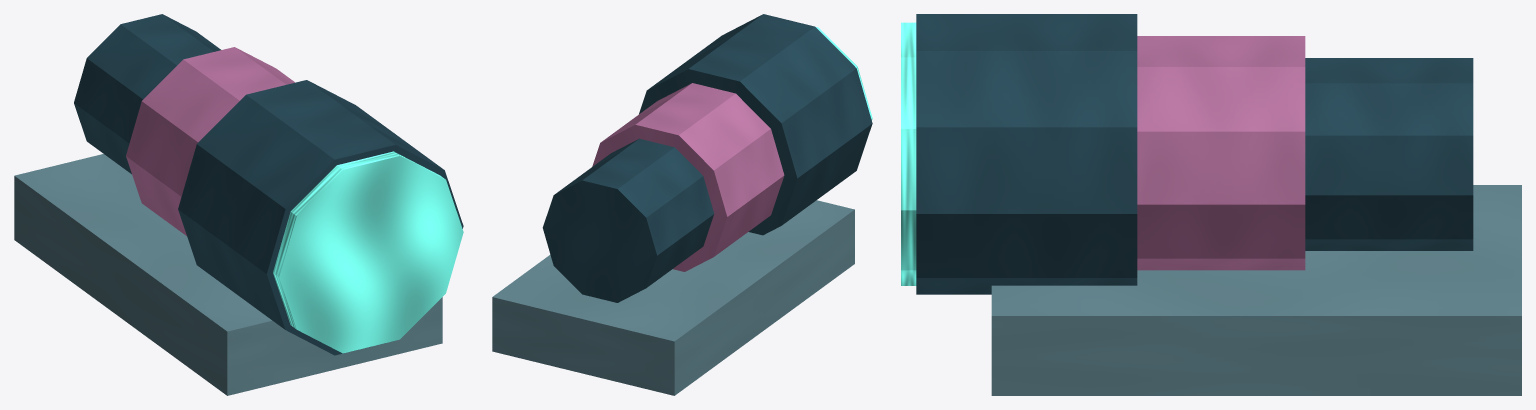
File: atlas100-s066-a05.glb
3 renders of one model, left to right at view 1: azimuth 30°, elevation 25°; view 2: azimuth 150°, elevation 25°; view 3: azimuth 270°, elevation 25°, orthographic. The views are drawn at different scales.
Parts seen in each view (by area): view 1: atlas100-s066-a05:part-004, atlas100-s066-a05:part-003, atlas100-s066-a05:part-002, atlas100-s066-a05:part-001, atlas100-s066-a05:part-000; view 2: atlas100-s066-a05:part-004, atlas100-s066-a05:part-002, atlas100-s066-a05:part-000, atlas100-s066-a05:part-001; view 3: atlas100-s066-a05:part-004, atlas100-s066-a05:part-002, atlas100-s066-a05:part-001, atlas100-s066-a05:part-000, atlas100-s066-a05:part-003.
Boxes of the visible parts, left/top/right/bottom form: atlas100-s066-a05:part-004: left=14, top=154, right=442, bottom=395; atlas100-s066-a05:part-003: left=273, top=151, right=463, bottom=353; atlas100-s066-a05:part-002: left=178, top=80, right=463, bottom=355; atlas100-s066-a05:part-001: left=126, top=47, right=294, bottom=235; atlas100-s066-a05:part-000: left=74, top=14, right=220, bottom=174; atlas100-s066-a05:part-004: left=492, top=200, right=854, bottom=395; atlas100-s066-a05:part-002: left=639, top=14, right=872, bottom=235; atlas100-s066-a05:part-000: left=542, top=138, right=714, bottom=302; atlas100-s066-a05:part-001: left=592, top=83, right=784, bottom=271; atlas100-s066-a05:part-004: left=991, top=185, right=1521, bottom=395; atlas100-s066-a05:part-002: left=916, top=14, right=1137, bottom=294; atlas100-s066-a05:part-001: left=1137, top=36, right=1305, bottom=270; atlas100-s066-a05:part-000: left=1305, top=58, right=1473, bottom=250; atlas100-s066-a05:part-003: left=901, top=22, right=916, bottom=285.
Size of the model in its own units: 0.3822 by 0.4064 by 0.7671.
4 materials, 4 textured.
